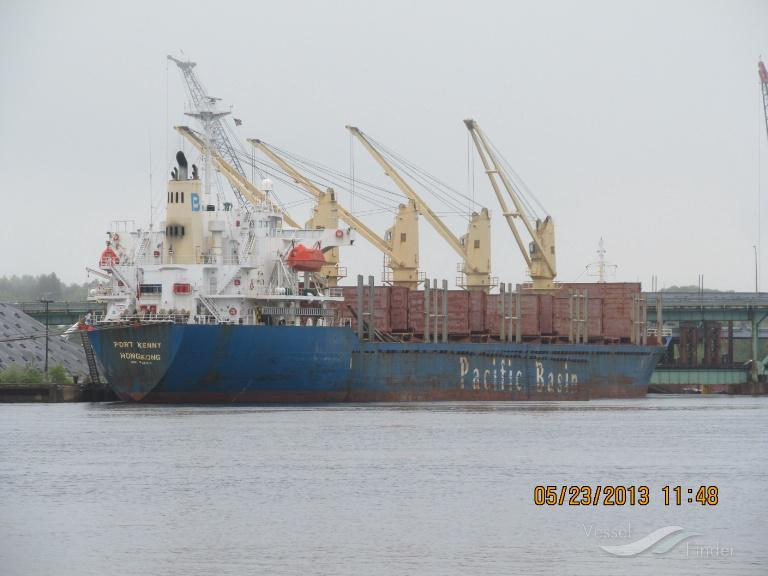OCR: (443, 348, 590, 401), (102, 334, 162, 376)
